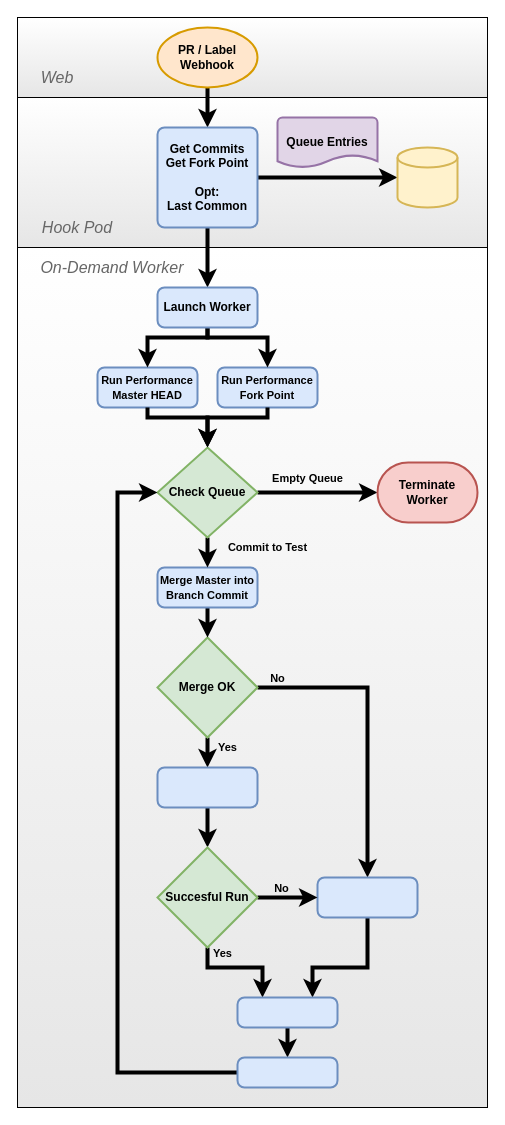
The diagram is 505 pixels wide and 1125 high, and some of its shapes have lost their labels. Here are the shapes that lost their labels. From the top down, the centre of each, then its label:
At (427,177): "DB".
At (207,787): "Test Merged Performance".
At (367,897): "Test Un-merged Performance".
At (287,1012): "Upload Results".
At (287,1072): "Compare with HEAD / Fork Pt.".
